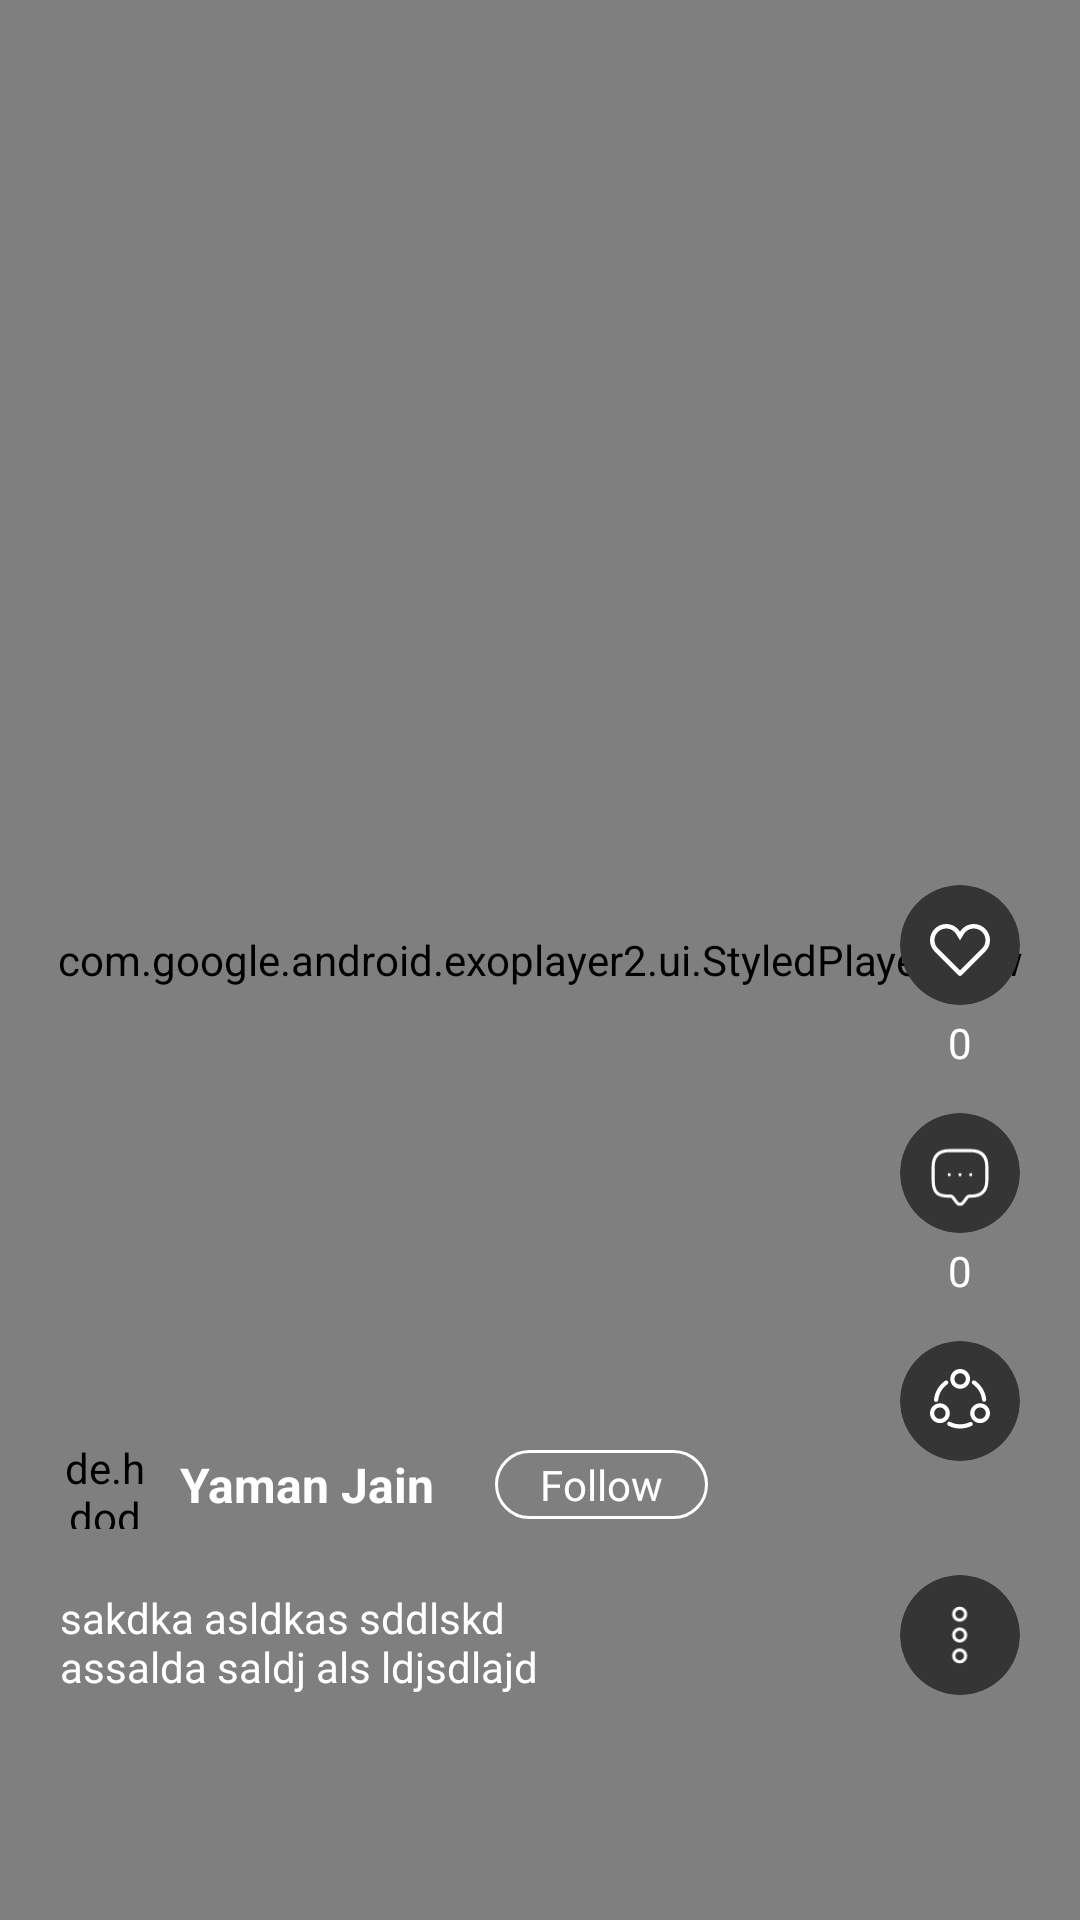

Where icons sit on this 1080x1920 app screen, as (x1, y1, x2, y2):
comment: (900, 1113, 1020, 1233)
like: (900, 885, 1020, 1005)
more: (900, 1575, 1020, 1695)
share: (900, 1341, 1020, 1461)
